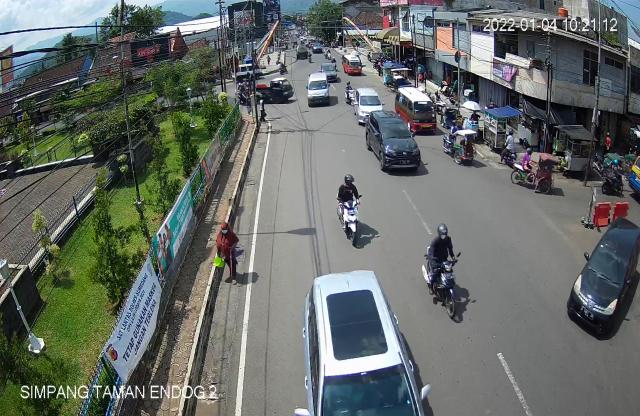Becak: (509, 146, 559, 199), (440, 121, 480, 171)
Mobil: (297, 272, 429, 416), (563, 213, 640, 342), (363, 109, 422, 176), (392, 81, 440, 135), (353, 84, 384, 125), (306, 73, 328, 110)
Motor: (418, 222, 472, 325), (334, 174, 368, 249)
